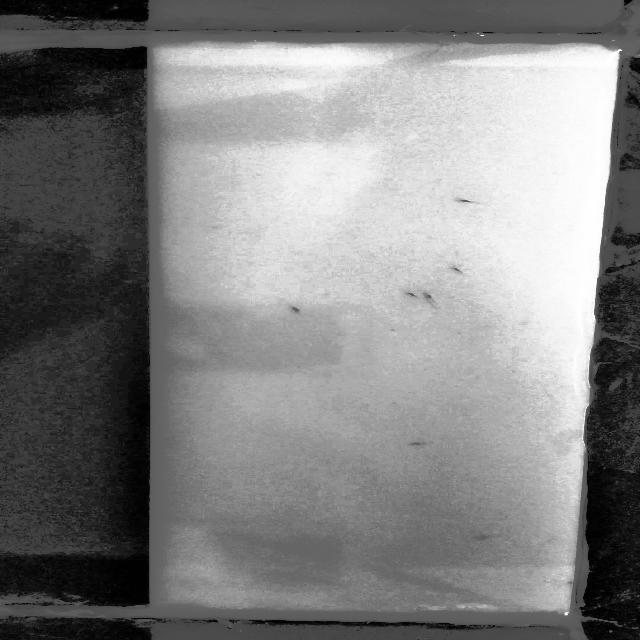shrimp: (418, 288, 444, 310), (286, 304, 319, 315), (400, 292, 428, 304), (448, 265, 468, 279), (472, 532, 499, 540), (410, 442, 442, 446)
